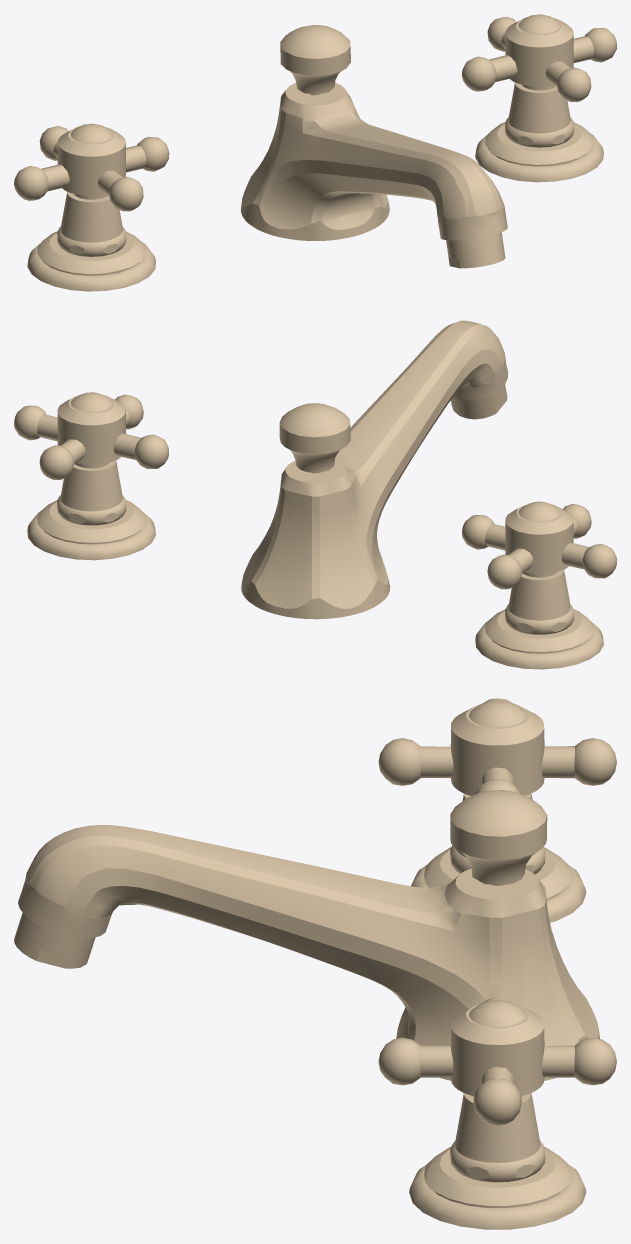
The picture shows the model from 3 angles, top to bottom: view 1: azimuth 30°, elevation 25°; view 2: azimuth 150°, elevation 25°; view 3: azimuth 270°, elevation 25°; orthographic projection. The views are drawn at different scales.
Visible parts, largest first — view 1: L_6a5fcefc_203c_4c6e_a5b2_9b8b443e56c3_I5, L_9d50c110_23b1_40bb_b88b_6a334fa5841f_I8, L_c5720fe3_f86c_46b0_a79d_d754ff68220b_I11, L_25d18645_a11a_4cbb_8bb1_6e5605c3c3ad_I1, L_a547e2a6_119a_4da6_a9df_b38897c84249_I10, L_341957f1_301e_4449_b220_3a6ba08f8acf_I2, L_69dc7a18_2877_4830_a479_8990dcb02228_I4, L_7c2c7bb3_00d1_4956_a980_70b2951a94b9_I6, L_5665b710_9d20_4486_95f0_cd2e646f557f_I3, L_f77738e1_d92a_4fef_8d5e_03646a503066_I12, L_9f5c40dc_16e5_4acc_a817_e6e5d7d17930_I9; view 2: L_6a5fcefc_203c_4c6e_a5b2_9b8b443e56c3_I5, L_c5720fe3_f86c_46b0_a79d_d754ff68220b_I11, L_9d50c110_23b1_40bb_b88b_6a334fa5841f_I8, L_25d18645_a11a_4cbb_8bb1_6e5605c3c3ad_I1, L_a547e2a6_119a_4da6_a9df_b38897c84249_I10, L_341957f1_301e_4449_b220_3a6ba08f8acf_I2, L_7c2c7bb3_00d1_4956_a980_70b2951a94b9_I6, L_69dc7a18_2877_4830_a479_8990dcb02228_I4, L_5665b710_9d20_4486_95f0_cd2e646f557f_I3, L_f77738e1_d92a_4fef_8d5e_03646a503066_I12, L_9f5c40dc_16e5_4acc_a817_e6e5d7d17930_I9; view 3: L_6a5fcefc_203c_4c6e_a5b2_9b8b443e56c3_I5, L_c5720fe3_f86c_46b0_a79d_d754ff68220b_I11, L_9d50c110_23b1_40bb_b88b_6a334fa5841f_I8, L_a547e2a6_119a_4da6_a9df_b38897c84249_I10, L_341957f1_301e_4449_b220_3a6ba08f8acf_I2, L_7c2c7bb3_00d1_4956_a980_70b2951a94b9_I6, L_25d18645_a11a_4cbb_8bb1_6e5605c3c3ad_I1, L_5665b710_9d20_4486_95f0_cd2e646f557f_I3, L_f77738e1_d92a_4fef_8d5e_03646a503066_I12, L_9f5c40dc_16e5_4acc_a817_e6e5d7d17930_I9, L_69dc7a18_2877_4830_a479_8990dcb02228_I4.
Boxes of the visible parts, <box> form: L_6a5fcefc_203c_4c6e_a5b2_9b8b443e56c3_I5: <box>240,82,507,240</box>; L_9d50c110_23b1_40bb_b88b_6a334fa5841f_I8: <box>14,126,169,211</box>; L_c5720fe3_f86c_46b0_a79d_d754ff68220b_I11: <box>462,16,616,102</box>; L_25d18645_a11a_4cbb_8bb1_6e5605c3c3ad_I1: <box>27,231,155,291</box>; L_a547e2a6_119a_4da6_a9df_b38897c84249_I10: <box>475,122,603,182</box>; L_341957f1_301e_4449_b220_3a6ba08f8acf_I2: <box>280,25,350,94</box>; L_69dc7a18_2877_4830_a479_8990dcb02228_I4: <box>57,192,126,256</box>; L_7c2c7bb3_00d1_4956_a980_70b2951a94b9_I6: <box>505,82,574,147</box>; L_5665b710_9d20_4486_95f0_cd2e646f557f_I3: <box>446,232,505,268</box>; L_f77738e1_d92a_4fef_8d5e_03646a503066_I12: <box>71,123,112,143</box>; L_9f5c40dc_16e5_4acc_a817_e6e5d7d17930_I9: <box>518,14,560,34</box>; L_6a5fcefc_203c_4c6e_a5b2_9b8b443e56c3_I5: <box>241,320,508,619</box>; L_c5720fe3_f86c_46b0_a79d_d754ff68220b_I11: <box>14,394,168,479</box>; L_9d50c110_23b1_40bb_b88b_6a334fa5841f_I8: <box>462,504,616,589</box>; L_25d18645_a11a_4cbb_8bb1_6e5605c3c3ad_I1: <box>475,609,603,669</box>; L_a547e2a6_119a_4da6_a9df_b38897c84249_I10: <box>27,500,155,560</box>; L_341957f1_301e_4449_b220_3a6ba08f8acf_I2: <box>279,403,350,472</box>; L_7c2c7bb3_00d1_4956_a980_70b2951a94b9_I6: <box>57,460,126,525</box>; L_69dc7a18_2877_4830_a479_8990dcb02228_I4: <box>505,570,574,634</box>; L_5665b710_9d20_4486_95f0_cd2e646f557f_I3: <box>450,384,507,419</box>; L_f77738e1_d92a_4fef_8d5e_03646a503066_I12: <box>518,501,560,521</box>; L_9f5c40dc_16e5_4acc_a817_e6e5d7d17930_I9: <box>71,392,112,412</box>; L_6a5fcefc_203c_4c6e_a5b2_9b8b443e56c3_I5: <box>18,825,599,1080</box>; L_c5720fe3_f86c_46b0_a79d_d754ff68220b_I11: <box>378,998,616,1125</box>; L_9d50c110_23b1_40bb_b88b_6a334fa5841f_I8: <box>378,698,616,795</box>; L_a547e2a6_119a_4da6_a9df_b38897c84249_I10: <box>409,1146,586,1229</box>; L_341957f1_301e_4449_b220_3a6ba08f8acf_I2: <box>450,790,547,885</box>; L_7c2c7bb3_00d1_4956_a980_70b2951a94b9_I6: <box>450,1093,545,1182</box>; L_25d18645_a11a_4cbb_8bb1_6e5605c3c3ad_I1: <box>411,847,586,922</box>; L_5665b710_9d20_4486_95f0_cd2e646f557f_I3: <box>14,912,95,968</box>; L_f77738e1_d92a_4fef_8d5e_03646a503066_I12: <box>469,700,526,727</box>; L_9f5c40dc_16e5_4acc_a817_e6e5d7d17930_I9: <box>469,999,526,1026</box>; L_69dc7a18_2877_4830_a479_8990dcb02228_I4: <box>450,793,545,874</box>.
Size of the model in its own units: 0.2936 by 0.0846 by 0.1871.
